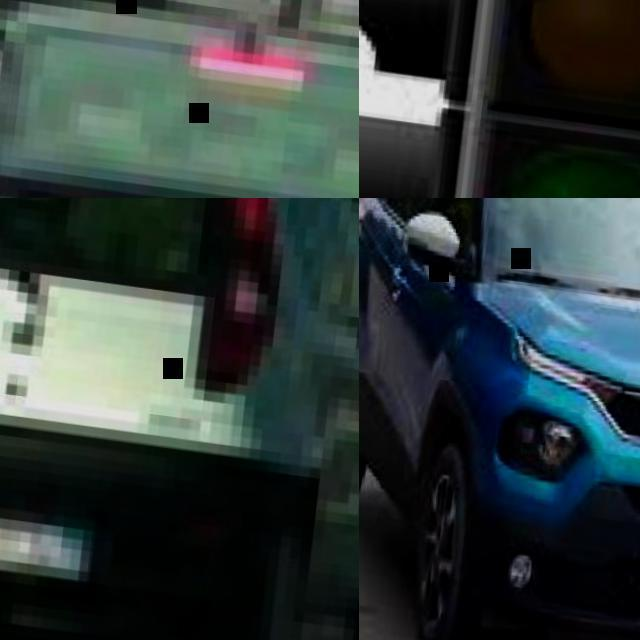car: (354, 267, 640, 639)
